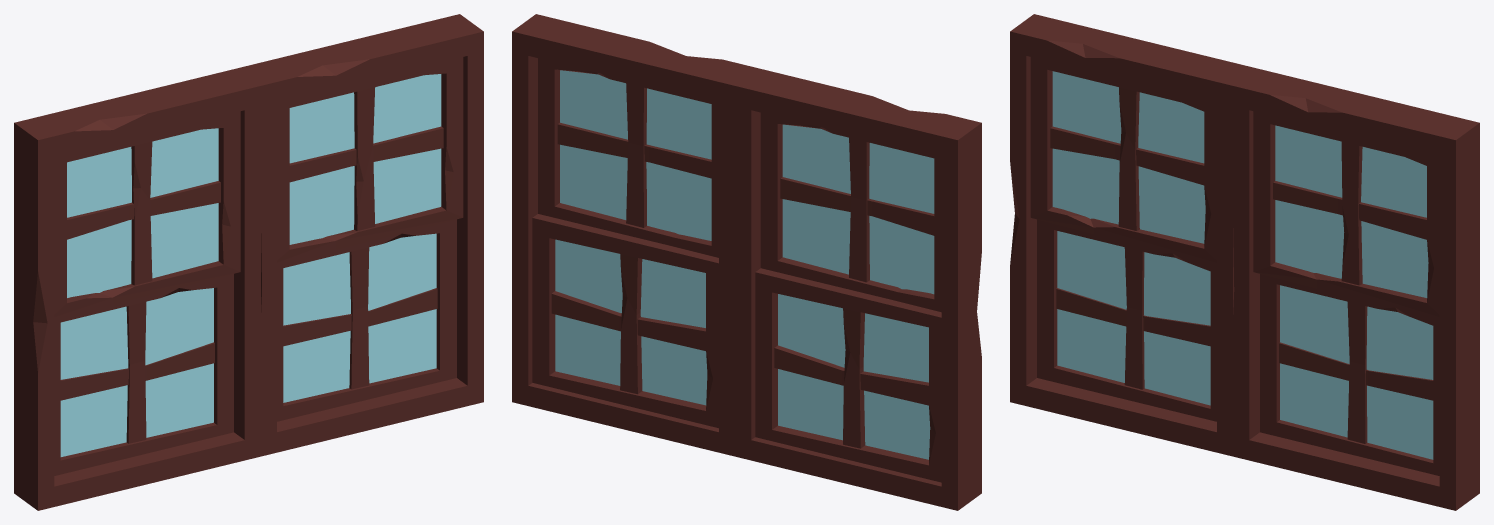
Rendered from Window1.fbx.
3 renders of one model, left to right at view 1: azimuth 30°, elevation 25°; view 2: azimuth 150°, elevation 25°; view 3: azimuth 330°, elevation 25°, orthographic.
Visible parts, largest first — view 1: SM_Bld_Double_Front_02, SM_Bld_Double_Front_Window_02; view 2: SM_Bld_Double_Front_02, SM_Bld_Double_Front_Window_02; view 3: SM_Bld_Double_Front_02, SM_Bld_Double_Front_Window_02.
Part boxes in pixels (box(x1,y1,x2,y2)): SM_Bld_Double_Front_02: box(14, 14, 483, 510); SM_Bld_Double_Front_Window_02: box(60, 74, 441, 456); SM_Bld_Double_Front_02: box(512, 14, 981, 510); SM_Bld_Double_Front_Window_02: box(555, 70, 934, 459); SM_Bld_Double_Front_02: box(1010, 14, 1479, 510); SM_Bld_Double_Front_Window_02: box(1052, 71, 1433, 459).
Size of the model in its own units: 249 by 198 by 23.18.
